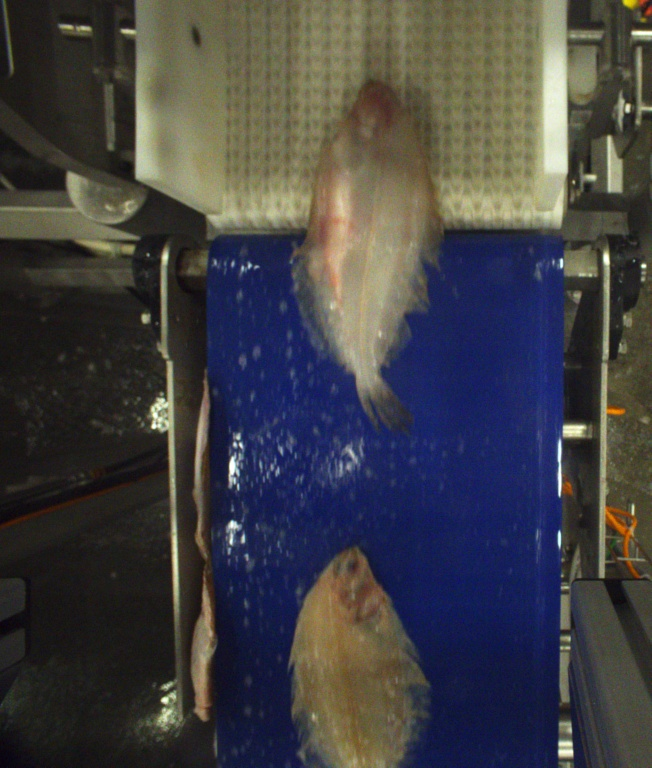WIT: (291, 546, 431, 768)
